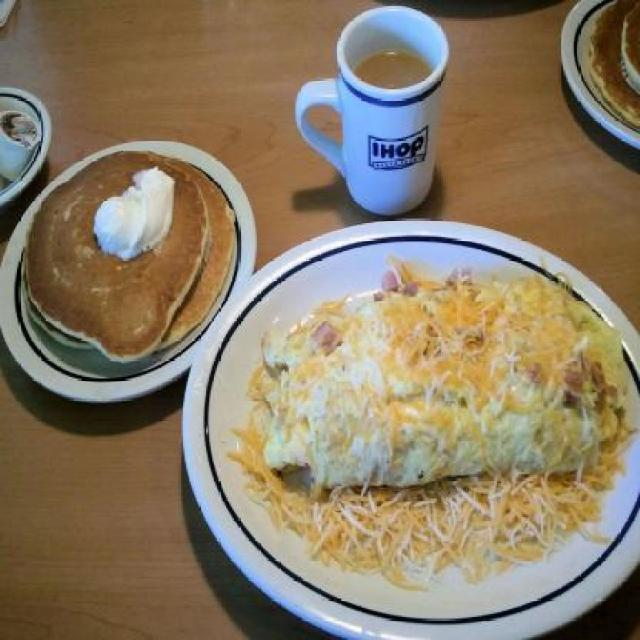Pancake: (22, 147, 240, 370), (588, 0, 638, 128)
